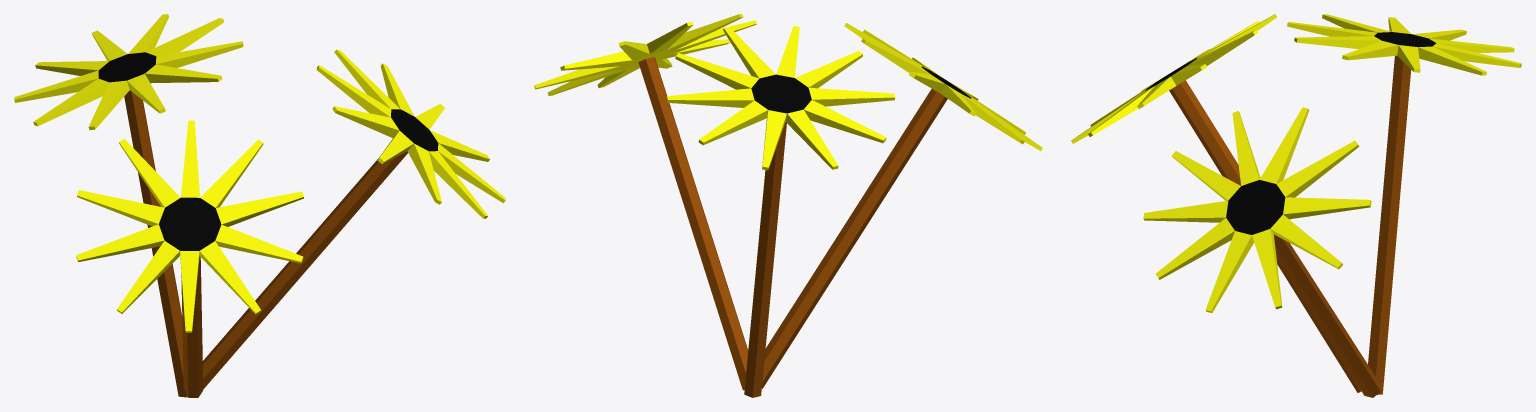
Rendered from floweryellow.glb.
3 renders of one model, left to right at view 1: azimuth 30°, elevation 25°; view 2: azimuth 150°, elevation 25°; view 3: azimuth 270°, elevation 25°, orthographic. The views are drawn at different scales.
Visible parts, largest first — view 1: Cylinder.008; view 2: Cylinder.008; view 3: Cylinder.008.
Part boxes in pixels (x1,y1,x2,y2): Cylinder.008: (14,14,505,397); Cylinder.008: (534,14,1042,397); Cylinder.008: (1071,14,1521,397).
Size of the model in its own units: 0.9152 by 0.689 by 0.7866.
